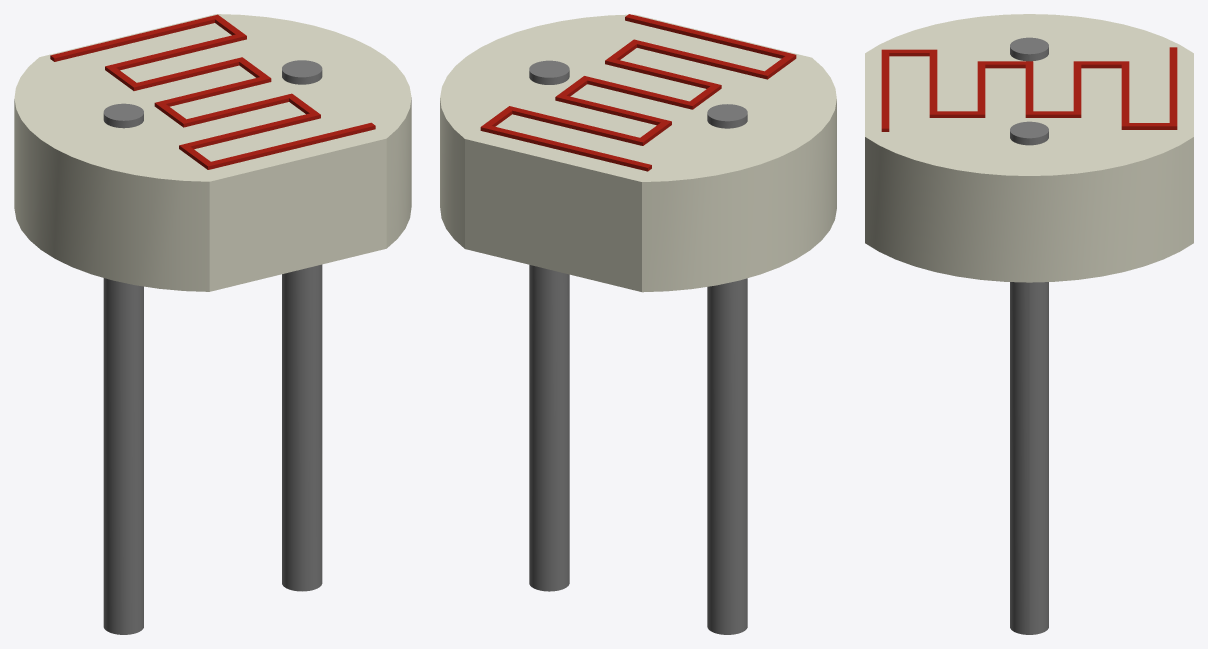
The model's file is ldr.glb.
The picture shows the model from 3 angles, left to right: view 1: azimuth 30°, elevation 25°; view 2: azimuth 150°, elevation 25°; view 3: azimuth 270°, elevation 25°; orthographic projection. The views are drawn at different scales.
Visible parts, largest first — view 1: ldr-1, ldr-2; view 2: ldr-1, ldr-2; view 3: ldr-1, ldr-2.
Boxes of the visible parts, left/top/right/bottom form: ldr-1: left=14, top=14, right=411, bottom=634; ldr-2: left=50, top=14, right=375, bottom=169; ldr-1: left=440, top=14, right=836, bottom=634; ldr-2: left=480, top=14, right=796, bottom=171; ldr-1: left=865, top=14, right=1193, bottom=634; ldr-2: left=881, top=47, right=1177, bottom=131.
Size of the model in its own units: 0.0049 by 0.007 by 0.0042.
